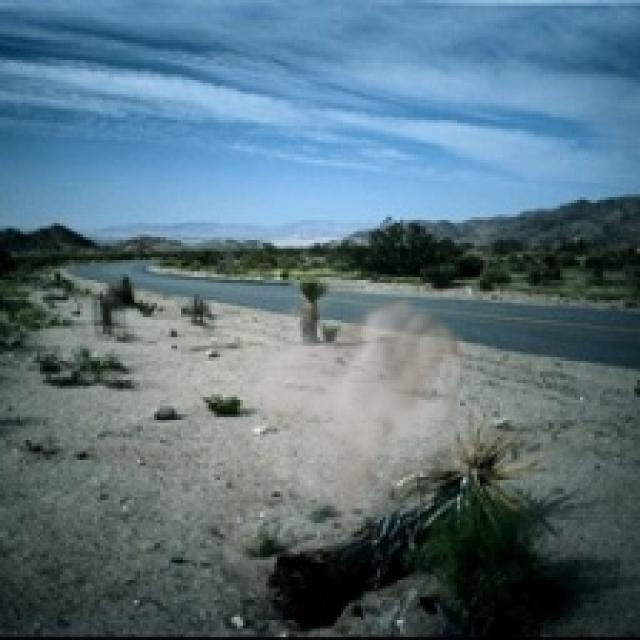smoke: (237, 271, 489, 540)
